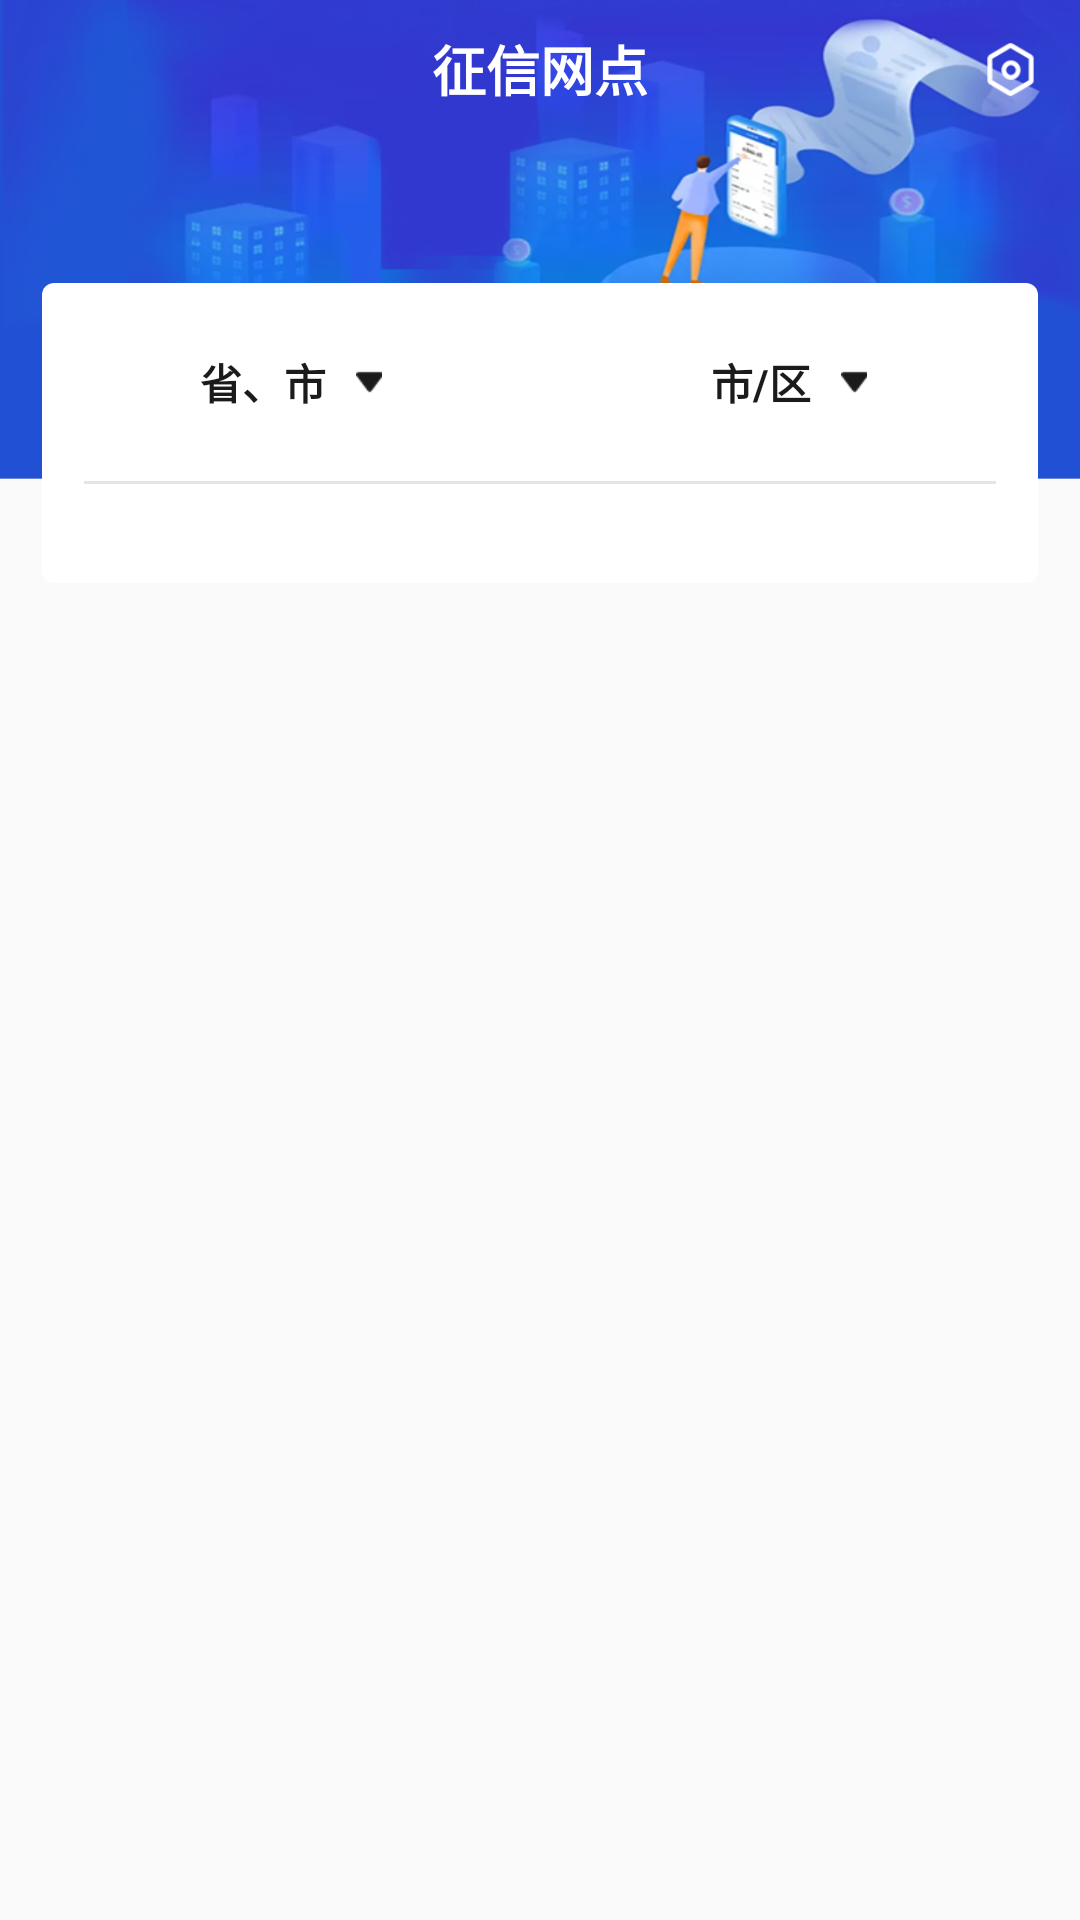

Locate icon controls on the screen. Image size 1080px×1920px, boxes as (left=x1, top=y1, right=x2, bottom=y2).
home shezhi: (left=966, top=43, right=1040, bottom=114)
pop but more two: (left=356, top=371, right=382, bottom=393), (left=841, top=371, right=867, bottom=393)
